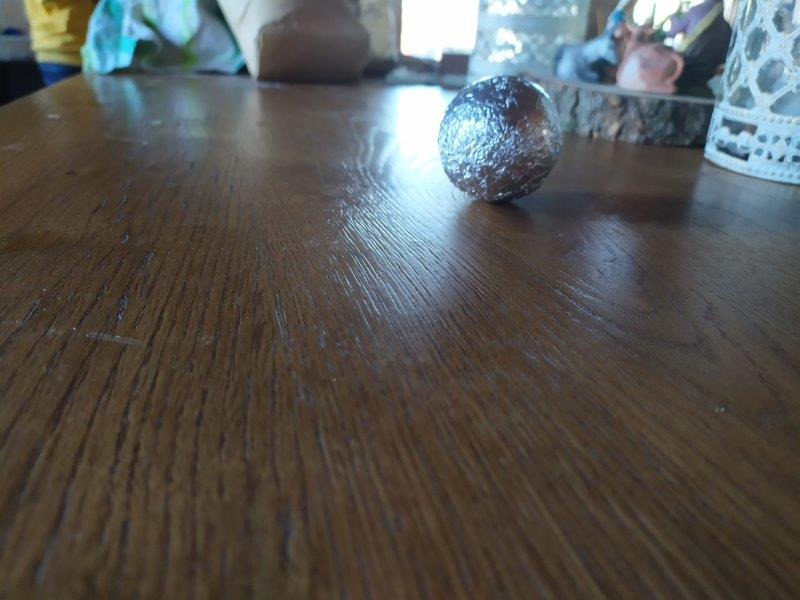bianca: (437, 72, 567, 203)
